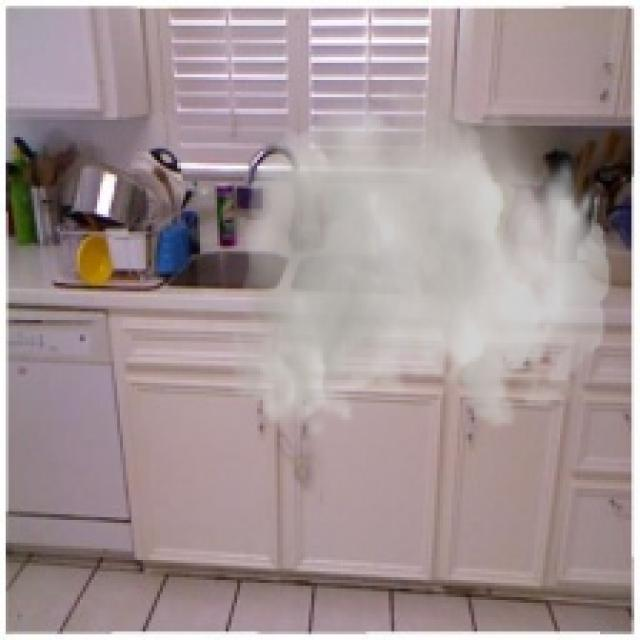Smoke: (228, 51, 612, 443)
